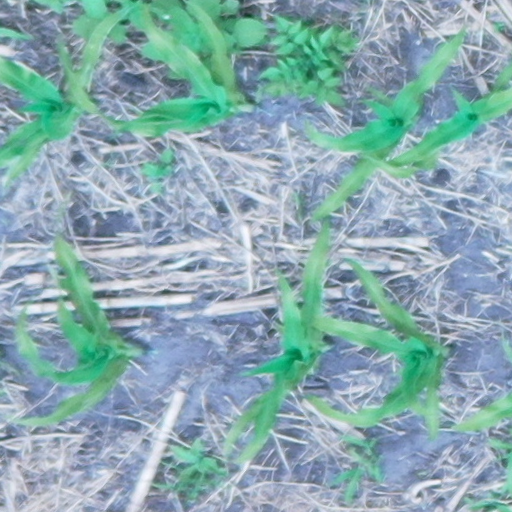planta: (310, 27, 466, 222), (3, 232, 145, 427), (303, 256, 450, 443), (223, 213, 329, 463)
